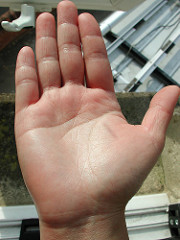palm: (20, 86, 146, 194)
